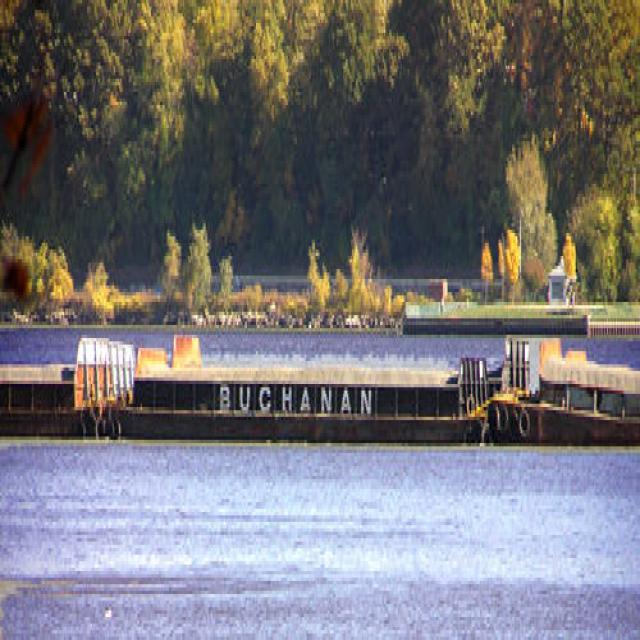boat: (112, 329, 490, 451), (490, 332, 640, 454), (1, 316, 111, 451)
